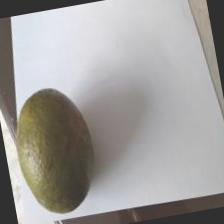Orange Rotten: (0, 71, 108, 224)
